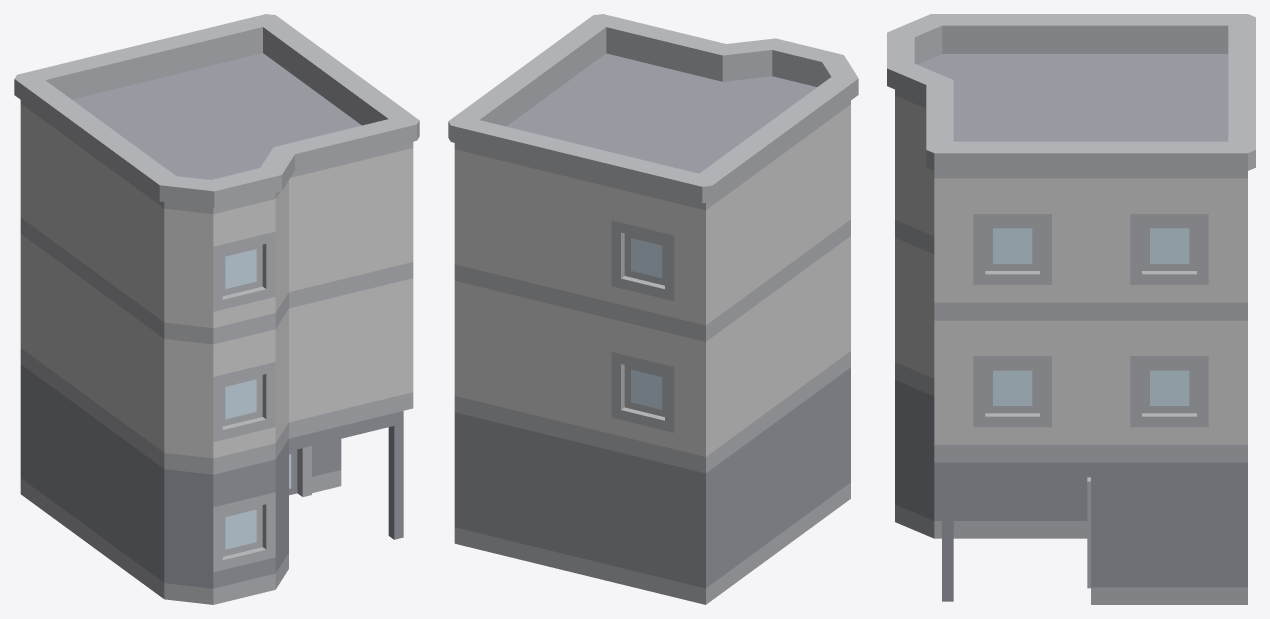
The model's file is small_buildingC.glb.
3 renders of one model, left to right at view 1: azimuth 30°, elevation 25°; view 2: azimuth 150°, elevation 25°; view 3: azimuth 270°, elevation 25°, orthographic. The views are drawn at different scales.
Parts seen in each view (by area): view 1: small_buildingC; view 2: small_buildingC; view 3: small_buildingC.
Boxes of the visible parts, x1,y1,x2,y2 form: small_buildingC: [14, 14, 419, 604]; small_buildingC: [448, 14, 858, 604]; small_buildingC: [887, 14, 1255, 604].
Bounding box in the file's own units: 0.84 × 1.28 × 0.94.
